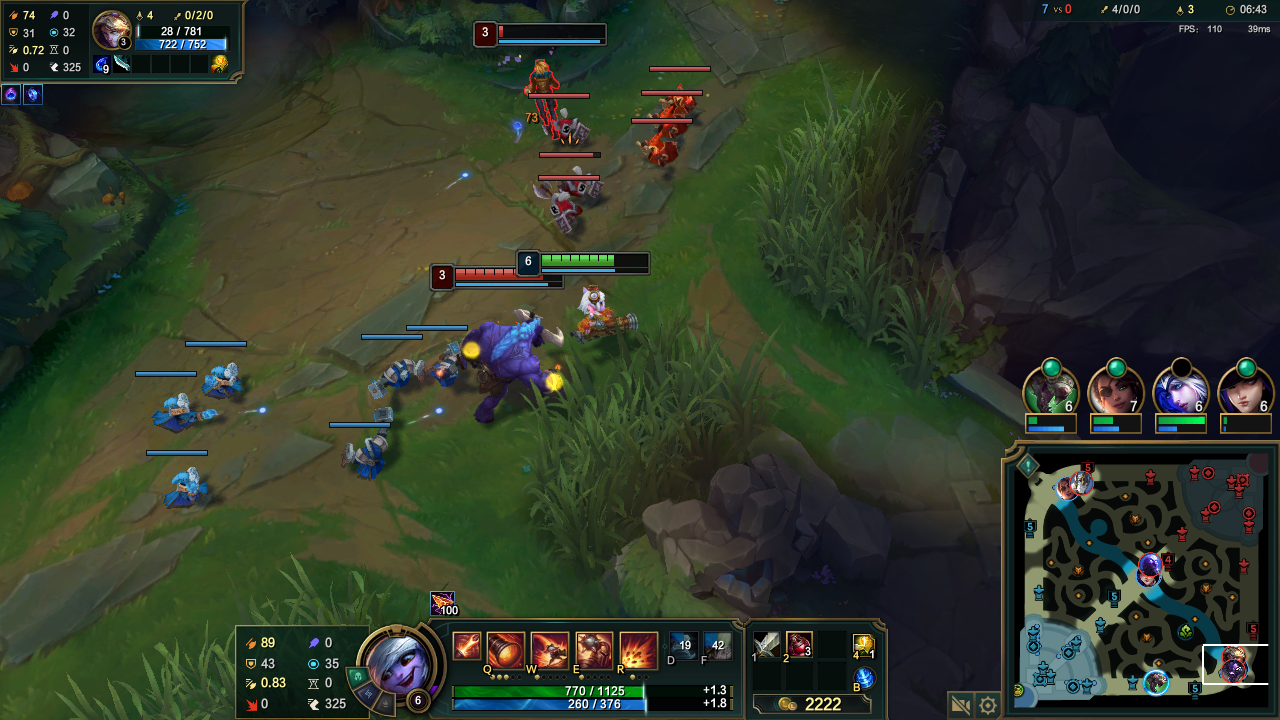DFXB: (532, 178, 591, 239), (631, 132, 697, 170), (560, 164, 605, 204), (545, 112, 594, 146), (650, 103, 689, 141), (663, 81, 697, 115)
DFYX: (494, 23, 612, 47), (444, 265, 511, 290)
WFXB: (332, 431, 400, 487), (141, 396, 225, 439), (363, 344, 426, 394), (155, 462, 214, 514), (200, 360, 253, 404), (433, 336, 475, 388)
